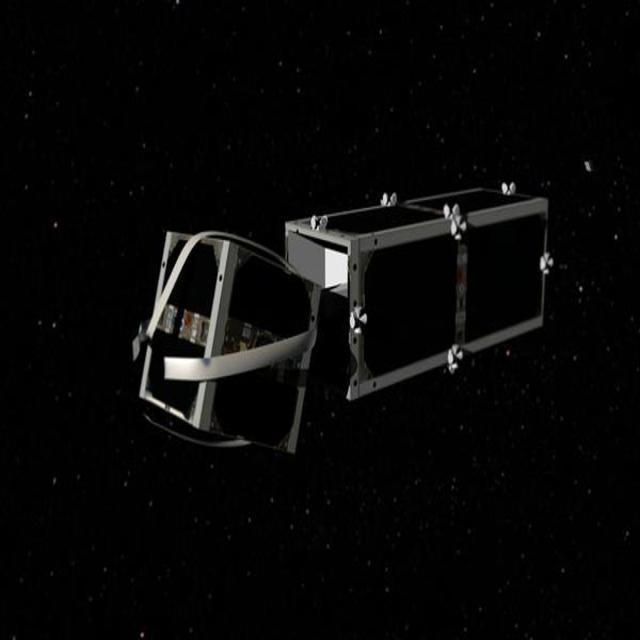sat: (123, 165, 555, 471)
